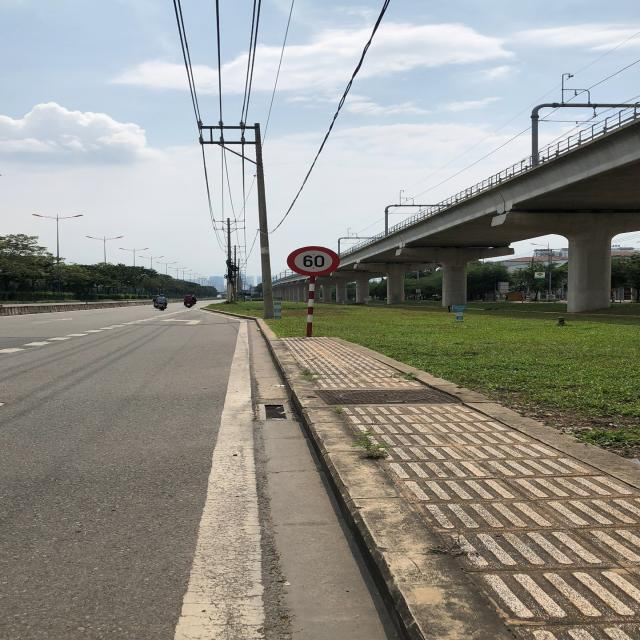Bien bao toc do toi da cho phep: (284, 244, 339, 279)
